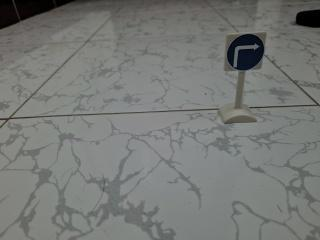right: (219, 22, 271, 75)
